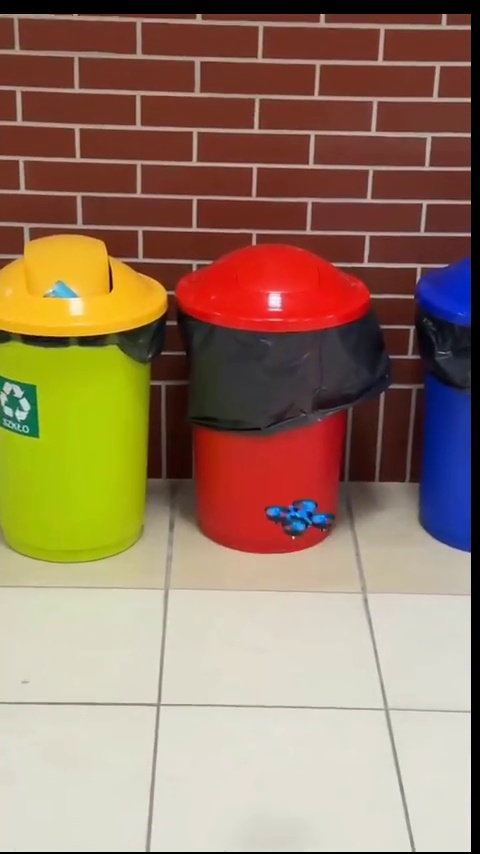drone: (265, 498, 335, 541)
